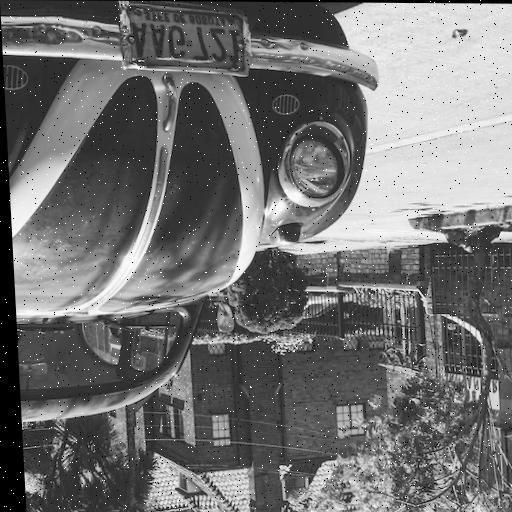placa: (120, 1, 248, 74)
